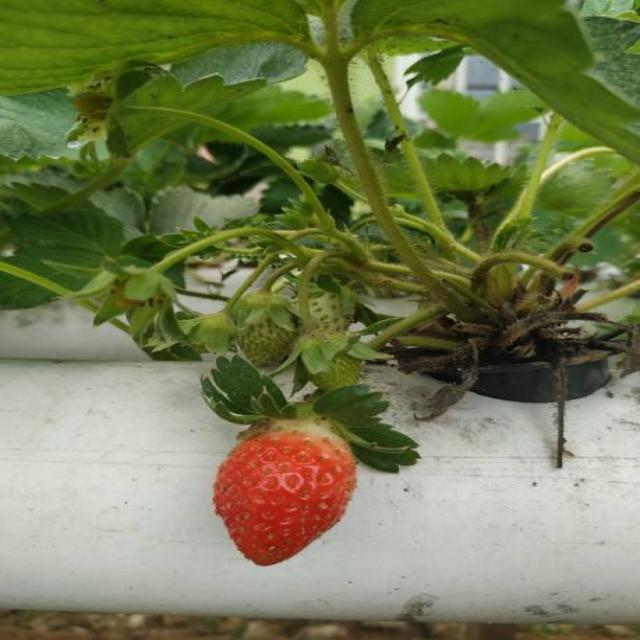Healthy Fruit: (214, 422, 354, 566)
